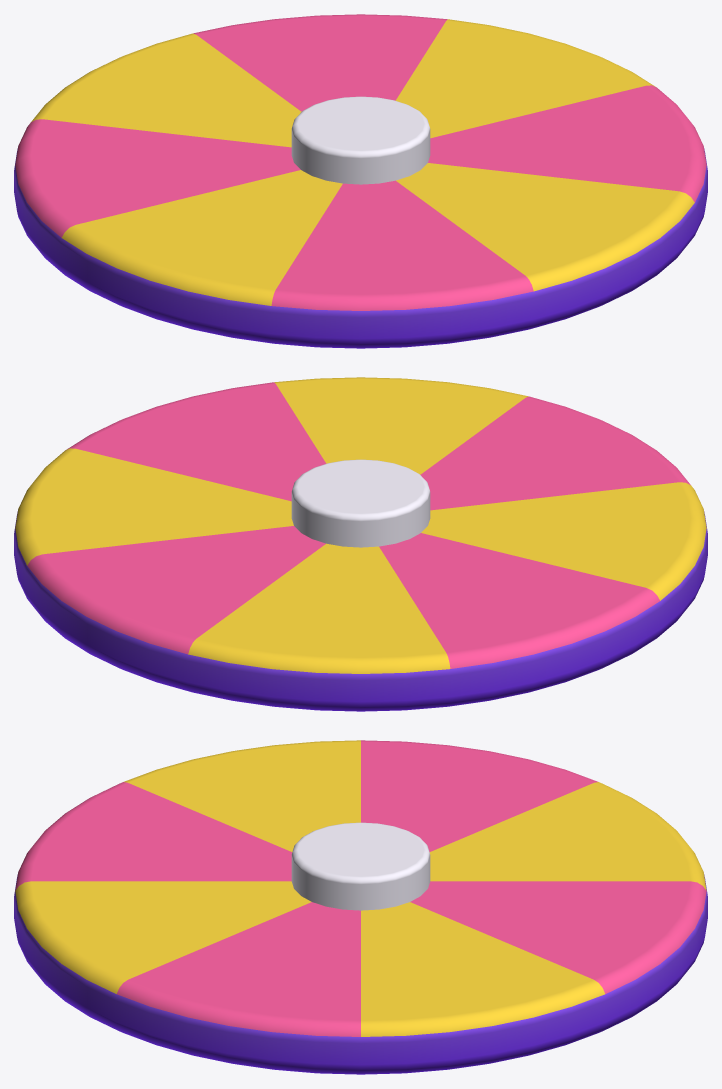
File: spinner_disc_6.glb
3 renders of one model, top to bottom at view 1: azimuth 30°, elevation 25°; view 2: azimuth 150°, elevation 25°; view 3: azimuth 270°, elevation 25°, orthographic.
Visible parts, largest first — view 1: spinner_disc_6; view 2: spinner_disc_6; view 3: spinner_disc_6.
Boxes of the visible parts, x1=… form: spinner_disc_6: x1=14, y1=14, x2=707, y2=348; spinner_disc_6: x1=14, y1=377, x2=707, y2=711; spinner_disc_6: x1=14, y1=740, x2=707, y2=1074.
Size of the model in its own units: 6 by 0.8 by 6.
1 material, 1 textured.
